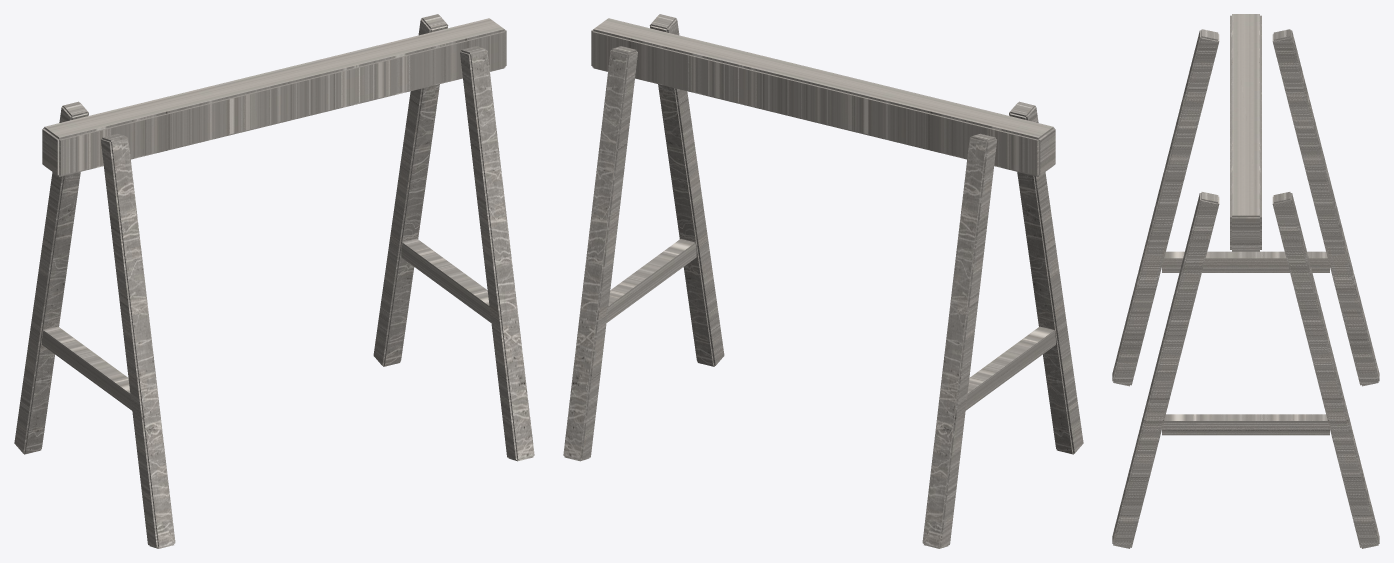
File: obj_sawhorse.glb
The picture shows the model from 3 angles, left to right: view 1: azimuth 30°, elevation 25°; view 2: azimuth 150°, elevation 25°; view 3: azimuth 270°, elevation 25°; orthographic projection. The views are drawn at different scales.
Parts seen in each view (by area): view 1: sawhorse_body; view 2: sawhorse_body; view 3: sawhorse_body.
Part boxes in pixels (bbox=[...]): sawhorse_body: bbox=[14, 14, 534, 548]; sawhorse_body: bbox=[563, 14, 1083, 548]; sawhorse_body: bbox=[1112, 14, 1379, 548].
Bounding box in the file's own units: 1.2 × 0.9643 × 0.6674.
Materials: 1 (1 with a texture image).
